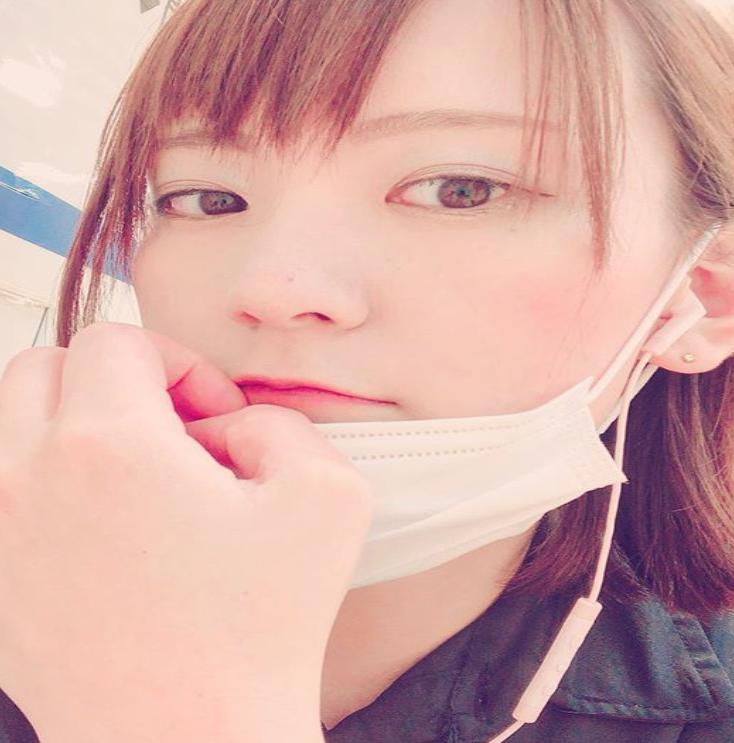mask_weared_incorrect: (123, 0, 734, 575)
